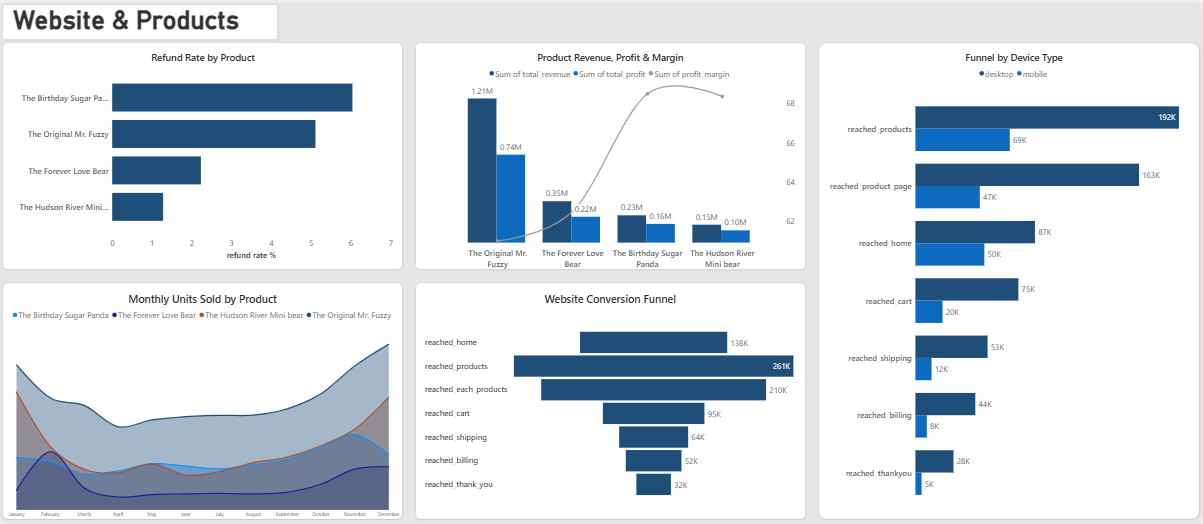

What the dashboard file says about the page in this screenshot:
{"tool":"powerbi","page":{"name":"Website & Products","canvas":[3000,1300],"ordinal":1},"visuals":[{"type":"shape","box":[0,96,1008,576],"z":0},{"type":"shape","box":[1032,696,984,600],"z":1000},{"type":"shape","box":[0,696,1008,600],"z":2000},{"type":"lineChart","title":"Monthly Units Sold by Product","fields":{"Category":["03_product_monthly_trend.order_month.Variation.Date Hierarchy.Month"],"Y":["Median(03_product_monthly_trend.units_sold)"],"Series":["03_product_monthly_trend.product_name"]},"box":[0,720,1008,576],"z":3000},{"type":"funnel","title":"Website Conversion Funnel","fields":{"Category":["02_funnel_overall_unpivot.funnel_step"],"Y":["Sum(02_funnel_overall_unpivot.session_count)"]},"box":[1056,720,936,576],"z":4000},{"type":"shape","box":[2040,95,960,1200],"z":5000},{"type":"clusteredBarChart","title":"Funnel by Device Type","fields":{"Category":["02_funnel_by_device_unpivot.funnel_step"],"Y":["Sum(02_funnel_by_device_unpivot.session_count)"],"Series":["02_funnel_by_device_unpivot.device_type"]},"box":[2065,120,935,1175],"z":6000},{"type":"shape","box":[1032,96,984,576],"z":7000},{"type":"lineClusteredColumnComboChart","title":"Product Revenue, Profit & Margin","fields":{"Category":["03_product_revenue.product_name"],"Y":["Sum(03_product_revenue.total_revenue)","Sum(03_product_revenue.total_profit)"],"Y2":["Sum(03_product_revenue.profit_margin)"]},"box":[1056,120,936,552],"z":8000},{"type":"barChart","title":"Refund Rate by Product","fields":{"Category":["03_refund_rate.product_name"],"Y":["Sum(03_refund_rate.refund_rate)"]},"box":[24,120,960,528],"z":9000},{"type":"shape","box":[0,0,696,96],"z":10000},{"type":"textbox","box":[24,0,624,96],"z":11000}]}

Visuals, with their boxes in screenshot pixels (x1, y1, x2, y2), scaled from the page's 3000x1300 canvas onto the 1203x524 screenshot:
shape: bbox(0, 39, 404, 271)
shape: bbox(414, 281, 808, 522)
shape: bbox(0, 281, 404, 522)
"Monthly Units Sold by Product" lineChart: bbox(0, 290, 404, 522)
"Website Conversion Funnel" funnel: bbox(423, 290, 799, 522)
shape: bbox(818, 38, 1202, 522)
"Funnel by Device Type" clusteredBarChart: bbox(828, 48, 1202, 522)
shape: bbox(414, 39, 808, 271)
"Product Revenue, Profit & Margin" lineClusteredColumnComboChart: bbox(423, 48, 799, 271)
"Refund Rate by Product" barChart: bbox(10, 48, 395, 261)
shape: bbox(0, 0, 279, 39)
textbox: bbox(10, 0, 260, 39)
